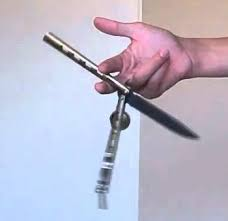knife: (40, 24, 205, 205)
